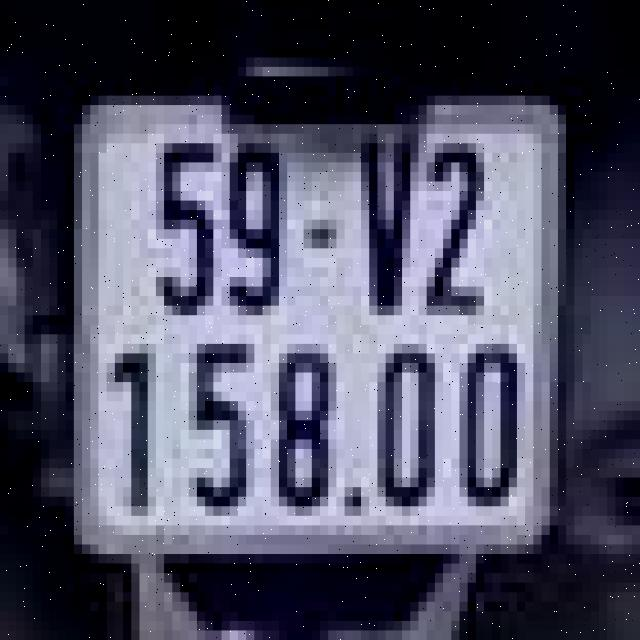0: (451, 339, 525, 521), (369, 344, 443, 516)
1: (103, 334, 160, 526)
2: (423, 129, 488, 320)
5: (184, 330, 258, 530), (160, 139, 226, 320)
8: (271, 344, 336, 516)
9: (226, 144, 291, 316)
V: (349, 114, 414, 324)
